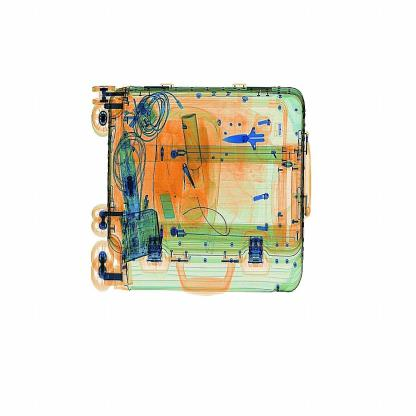gun: (215, 110, 284, 162)
